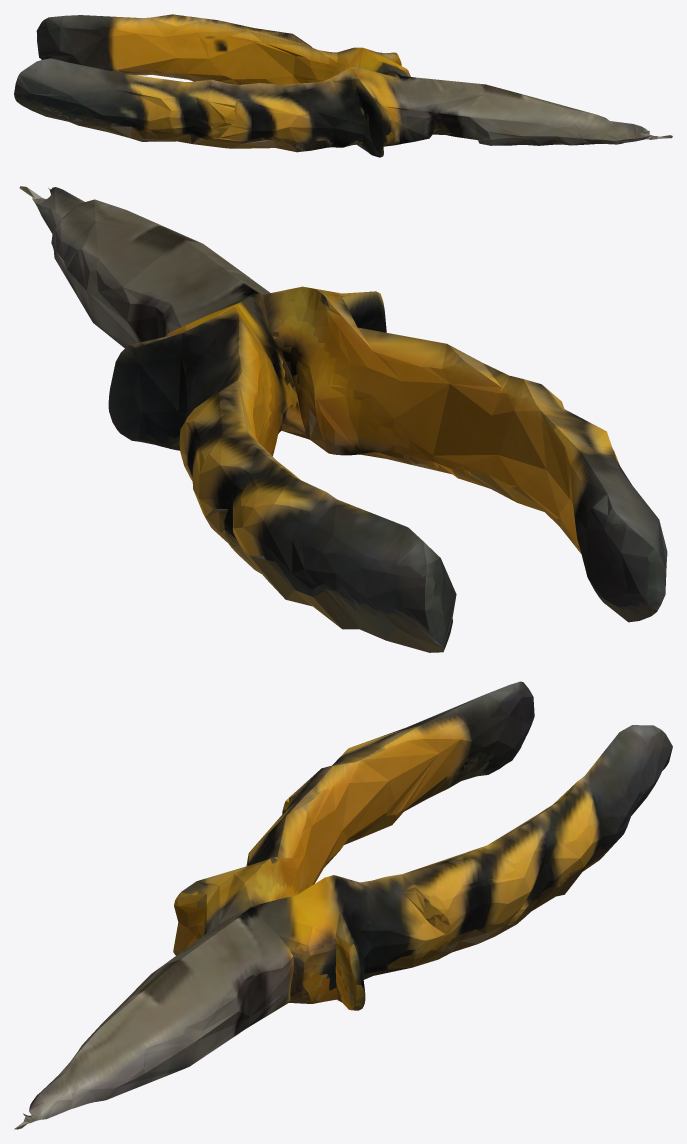
Rendered from Pliars.obj.
The picture shows the model from 3 angles, top to bottom: view 1: azimuth 30°, elevation 25°; view 2: azimuth 150°, elevation 25°; view 3: azimuth 270°, elevation 25°; orthographic projection. The views are drawn at different scales.
Bounding box in the file's own units: 74.76 × 11.06 × 57.54.
1 material, 1 textured.
